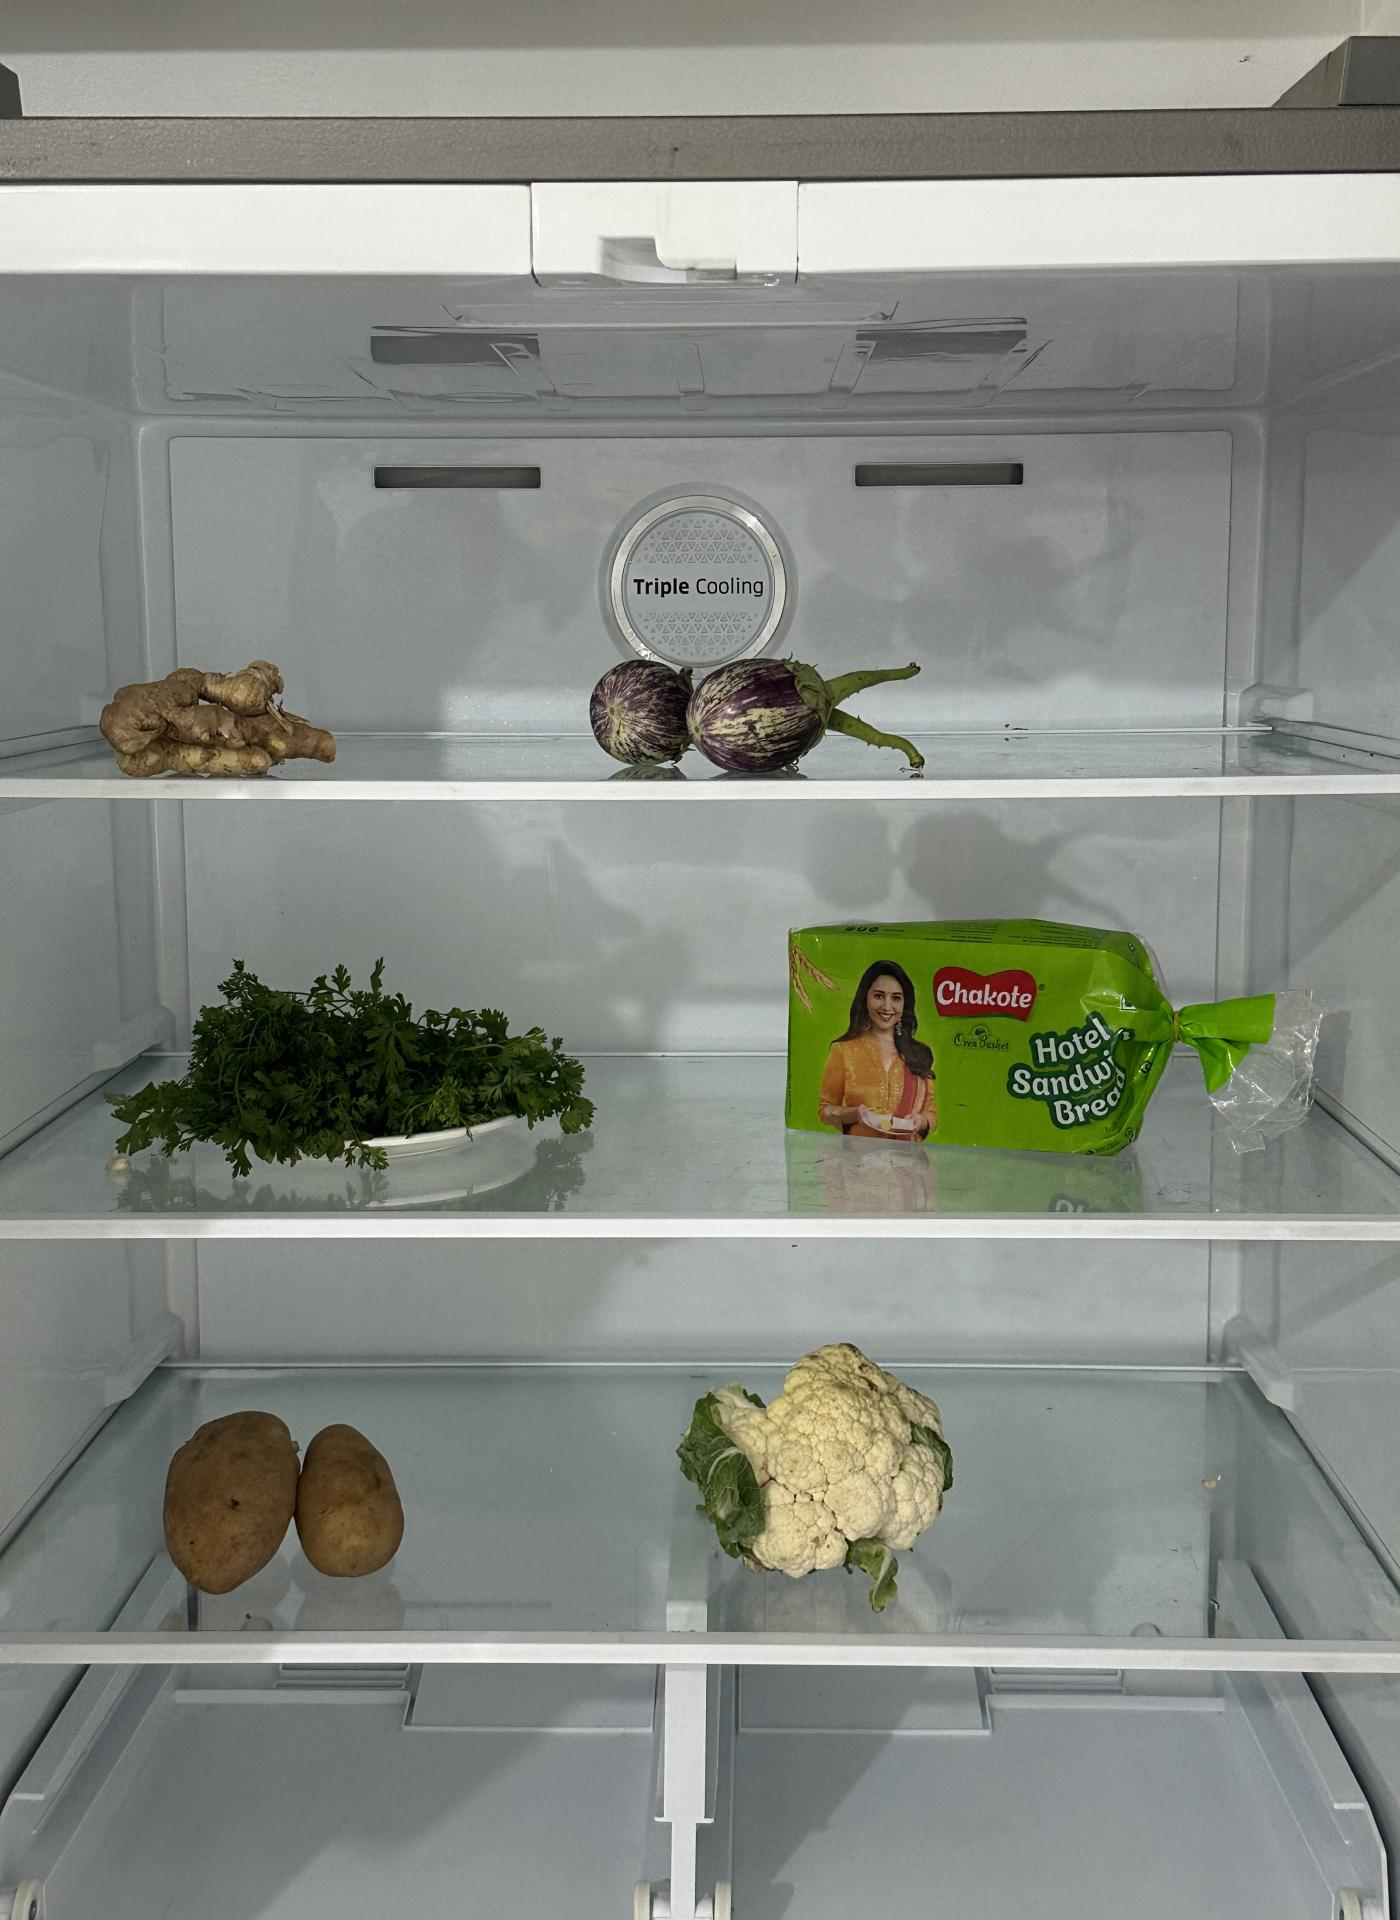bread: (777, 906, 1179, 1169)
cauliflower: (683, 1348, 954, 1570)
coriander: (167, 967, 581, 1178)
ginger: (98, 659, 338, 781)
potato: (165, 1409, 404, 1591)
